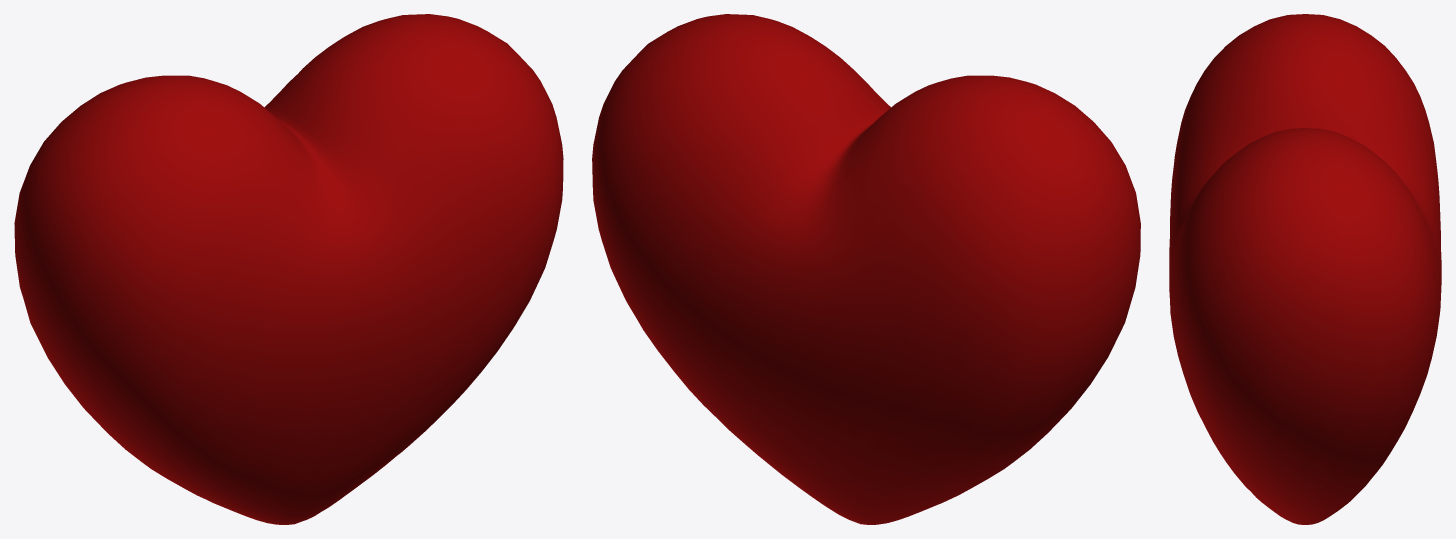
Rendered from heart-transformed.glb.
3 renders of one model, left to right at view 1: azimuth 30°, elevation 25°; view 2: azimuth 150°, elevation 25°; view 3: azimuth 270°, elevation 25°, orthographic. The views are drawn at different scales.
Visible parts, largest first — view 1: BASE HEART_Material #41_0; view 2: BASE HEART_Material #41_0; view 3: BASE HEART_Material #41_0.
Boxes of the visible parts, x1=… form: BASE HEART_Material #41_0: x1=14, y1=14, x2=563, y2=524; BASE HEART_Material #41_0: x1=592, y1=14, x2=1140, y2=524; BASE HEART_Material #41_0: x1=1169, y1=14, x2=1441, y2=524.
Size of the model in its own units: 85.81 by 74.82 by 42.27.
